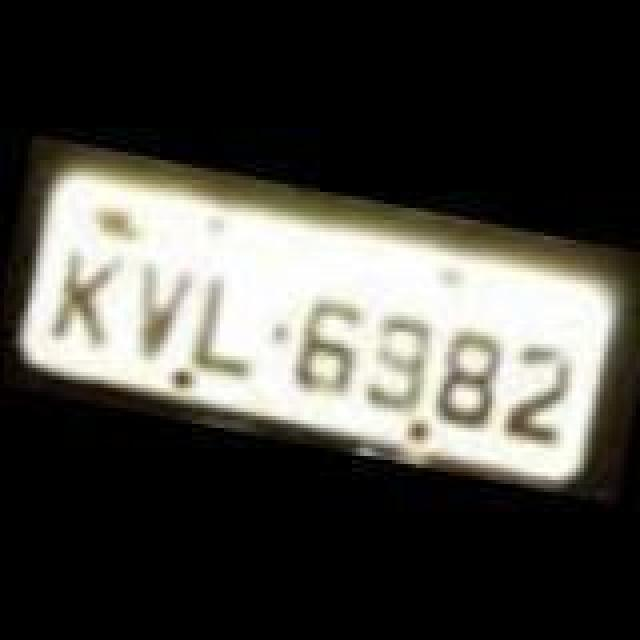2: (496, 334, 580, 450)
6: (282, 294, 370, 410)
8: (428, 322, 504, 430)
9: (360, 306, 436, 414)
K: (46, 242, 126, 350)
L: (182, 274, 270, 382)
V: (124, 262, 192, 362)
